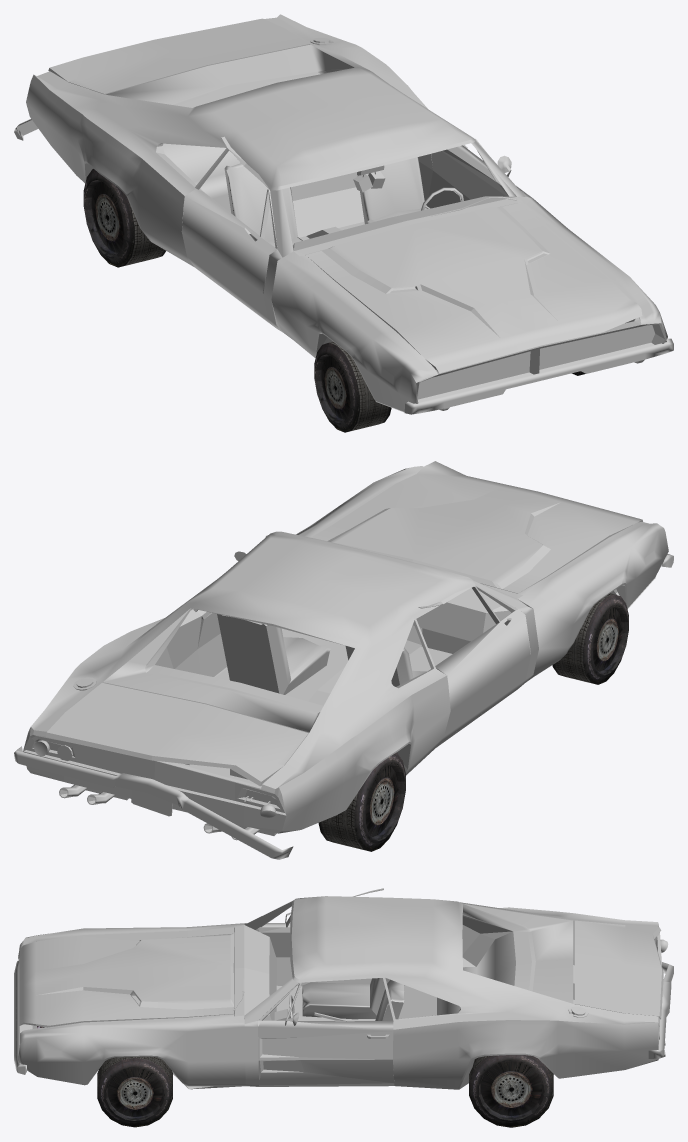
Rendered from Model_Cars_HotRod.fbx.
3 views of the same model, one above another, from view 1: azimuth 30°, elevation 25°; view 2: azimuth 150°, elevation 25°; view 3: azimuth 270°, elevation 25° (orthographic). The views are drawn at different scales.
Visible parts, largest first — view 1: Car_Body, RB_Wheel, RF_Wheel; view 2: Car_Body, RB_Wheel, RF_Wheel; view 3: Car_Body, LB_Wheel, LF_Wheel.
Boxes of the visible parts, bbox=[...] form: Car_Body: bbox=[14, 14, 673, 414]; RB_Wheel: bbox=[83, 169, 165, 267]; RF_Wheel: bbox=[314, 341, 391, 432]; Car_Body: bbox=[14, 461, 673, 859]; RB_Wheel: bbox=[318, 752, 405, 851]; RF_Wheel: bbox=[552, 593, 628, 684]; Car_Body: bbox=[14, 888, 673, 1089]; LB_Wheel: bbox=[469, 1055, 553, 1127]; LF_Wheel: bbox=[97, 1056, 172, 1127].
Size of the model in its own units: 274 by 155 by 622.
